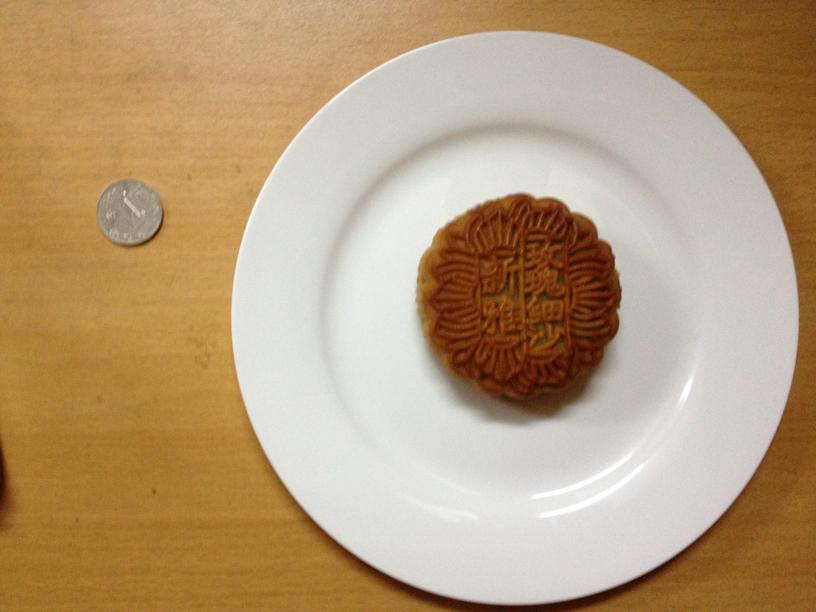coin: (95, 179, 162, 245)
mooncake: (417, 194, 620, 401)
